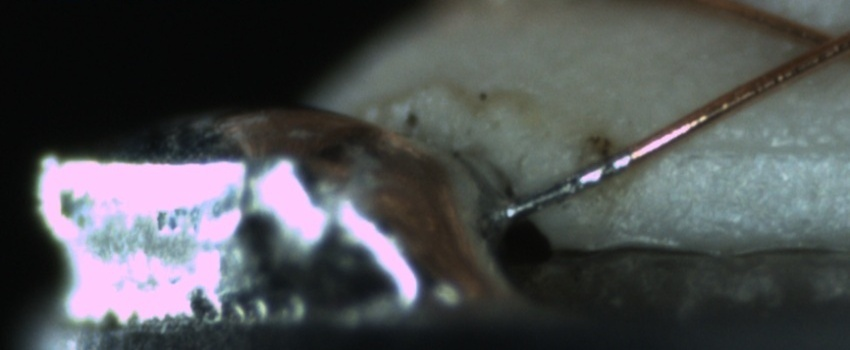CL: (795, 15, 850, 72)
DL: (682, 120, 849, 184)
TS: (514, 151, 632, 216)
